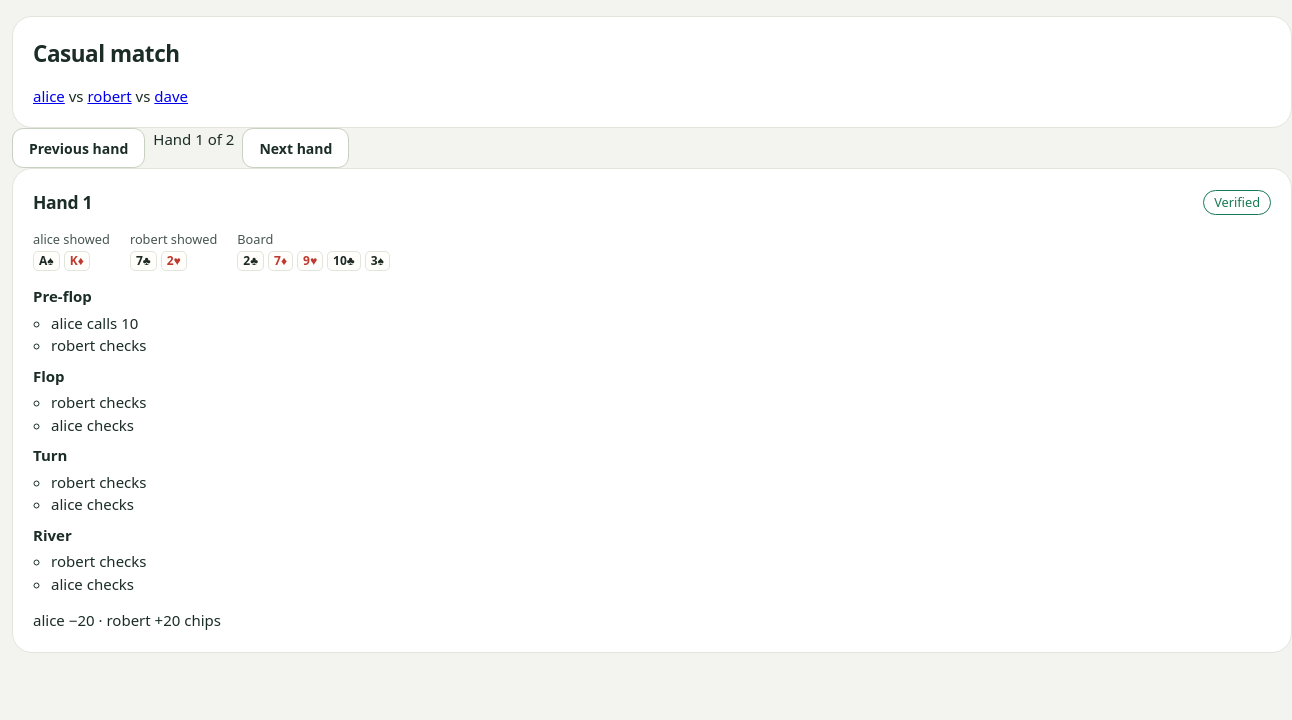
Test: the public review of a six-casual session › names the player of each hand from that hand, when two accounts used seat 1
Check: the text "robert showed" is shown, box [130, 230, 217, 249]
Click the button "Next hand". click: (296, 148)
box: [242, 128, 349, 168]
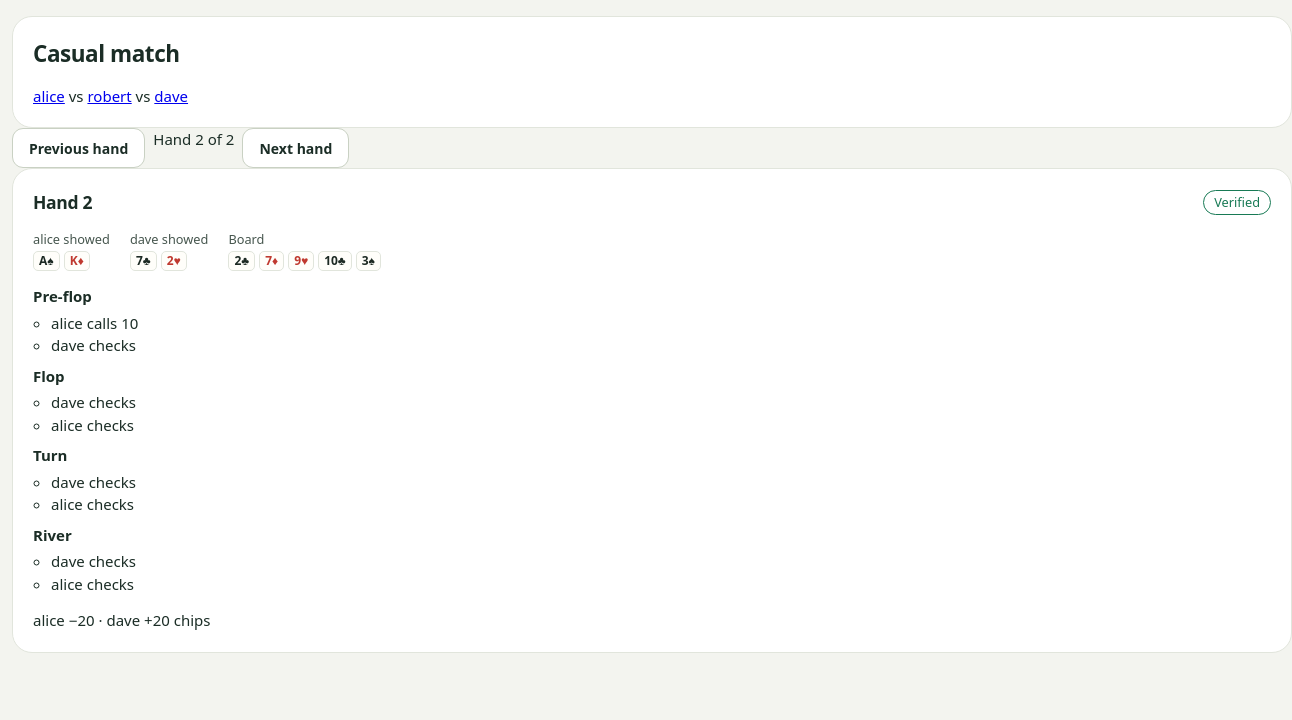
Check: the text "dave showed" is shown, box [130, 230, 208, 249]
Check: the element "Hand 2" shows "dave checks"
Check: the element "Hand 2" shows "alice −20 · dave +20 chips"
